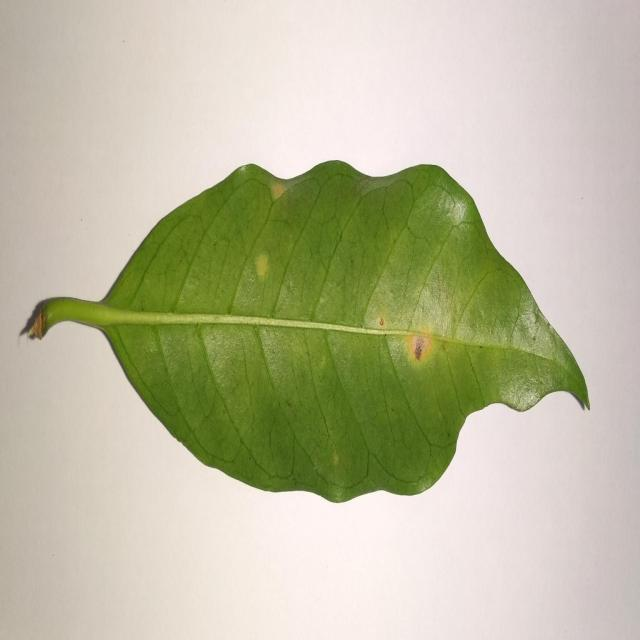Enfermedad-Roya: (20, 160, 590, 506)
